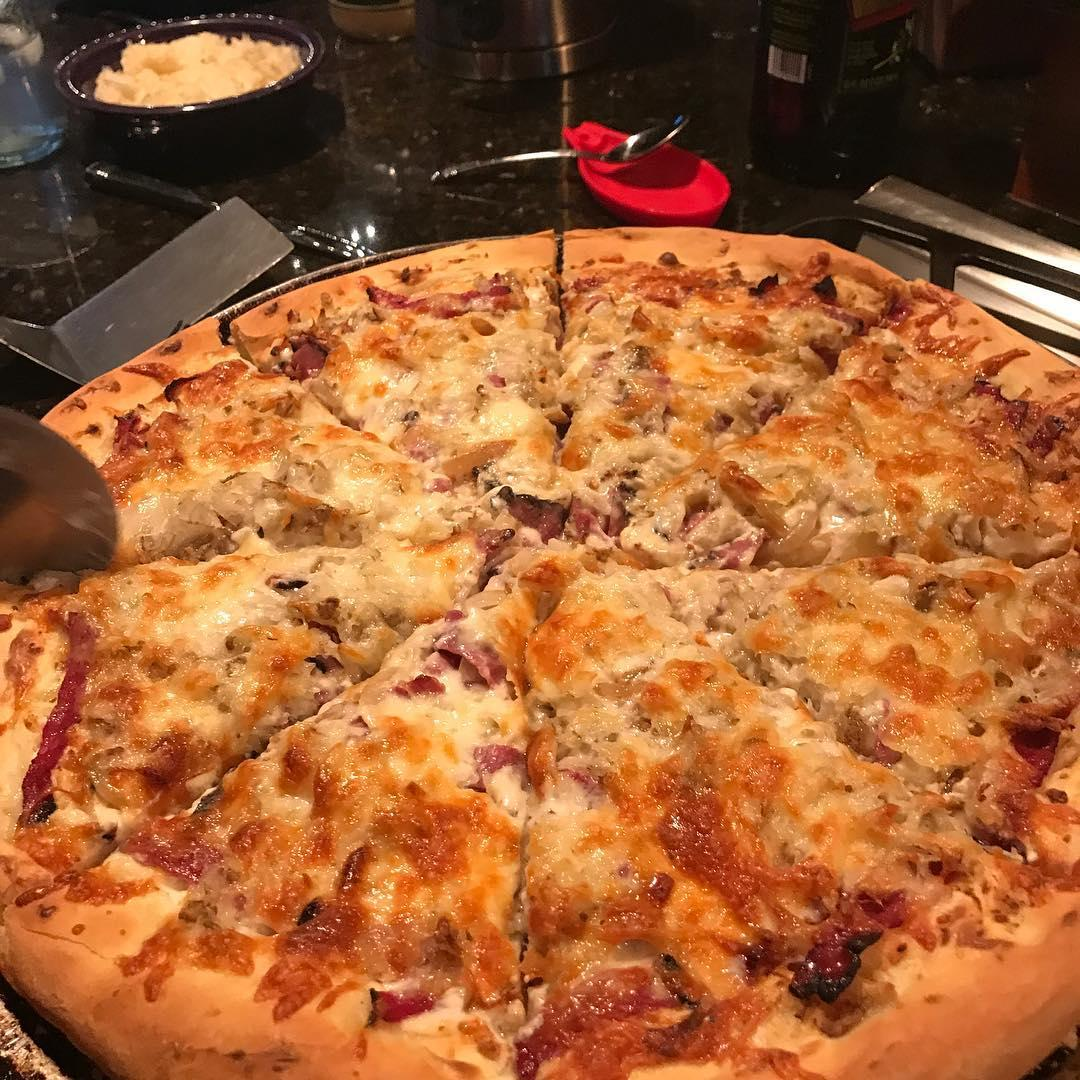Bacon: (16, 608, 104, 824), (458, 464, 633, 568), (964, 683, 1080, 837), (790, 882, 916, 1009), (353, 265, 520, 324), (401, 623, 509, 700), (458, 738, 529, 798), (267, 327, 333, 385)
Onion: (724, 505, 1071, 571), (143, 469, 371, 558), (911, 374, 1070, 477), (789, 342, 849, 384)
Pizza: (0, 218, 1080, 1080)
